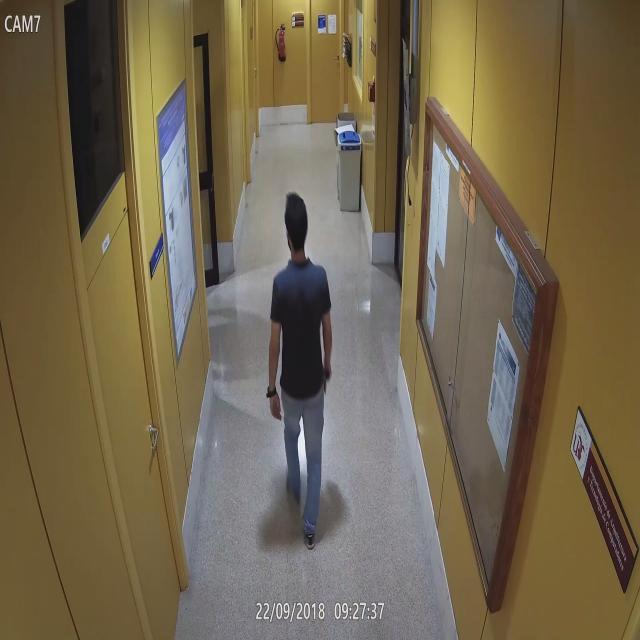weapon: (322, 364, 332, 397)
